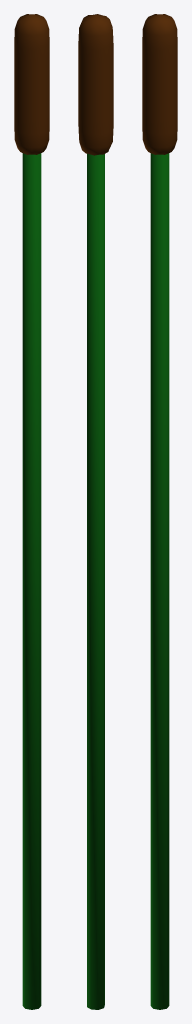
Rendered from cattail.fbx.
3 renders of one model, left to right at view 1: azimuth 90°, elevation 25°; view 2: azimuth 150°, elevation 25°; view 3: azimuth 270°, elevation 25°, orthographic.
Parts seen in each view (by area): view 1: Cylinder.014; view 2: Cylinder.014; view 3: Cylinder.014.
Boxes of the visible parts, <box> form: Cylinder.014: <box>14,14,49,1009</box>; Cylinder.014: <box>78,14,113,1009</box>; Cylinder.014: <box>142,14,177,1009</box>.
Bounding box in the file's own units: 7.6 × 235 × 7.6.
